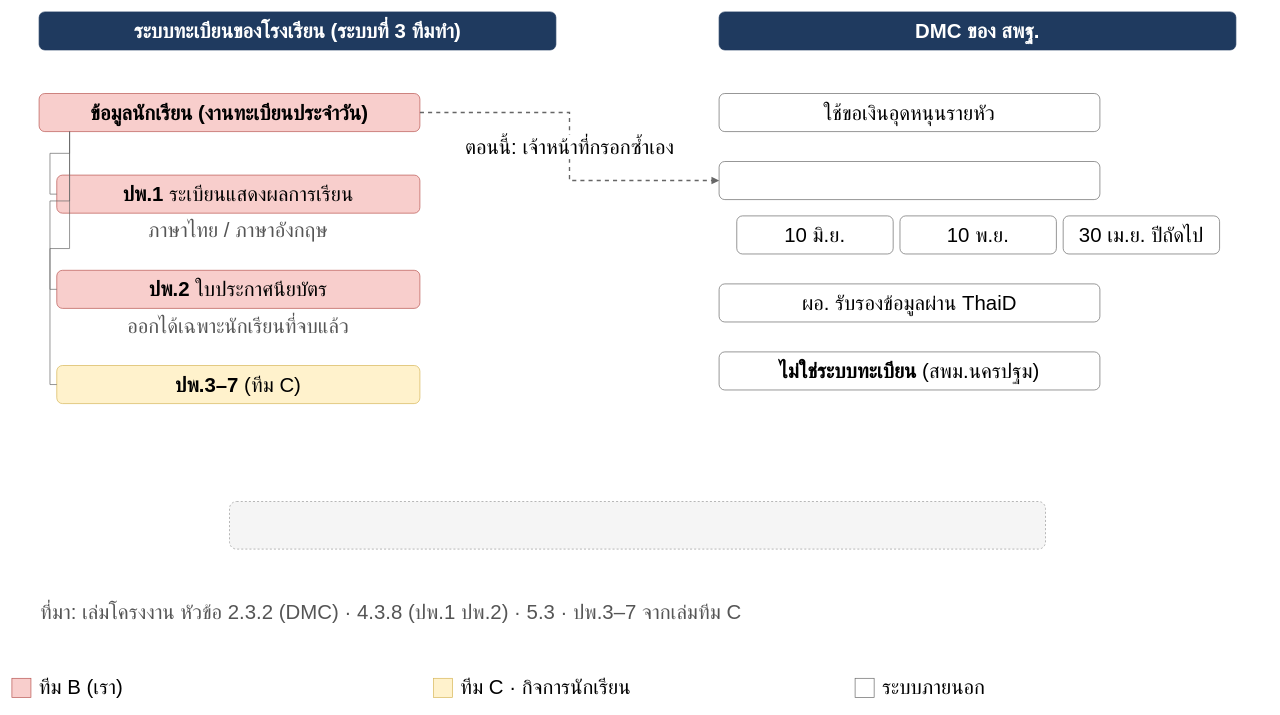
Image size: 1280x715. Some labels were removed from this diagram. Each missing label, with the centre of its shape:
ต่อยอด (เล่ม 5.3): ส่งออกข้อมูลให้ DMC เพื่อลดการกรอกซ้ำ: the point at 637,525
ยืนยันข้อมูล 3 รอบต่อปี: the point at 909,180
